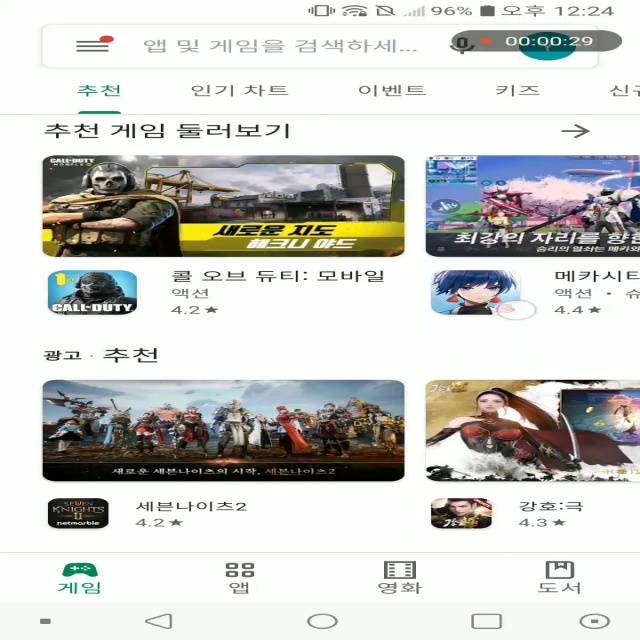Cursor: (496, 300, 540, 322)
